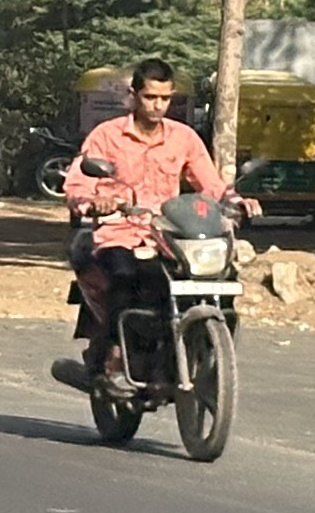BikeWithRider: (42, 51, 268, 467)
NoHelmet: (118, 53, 184, 127)
